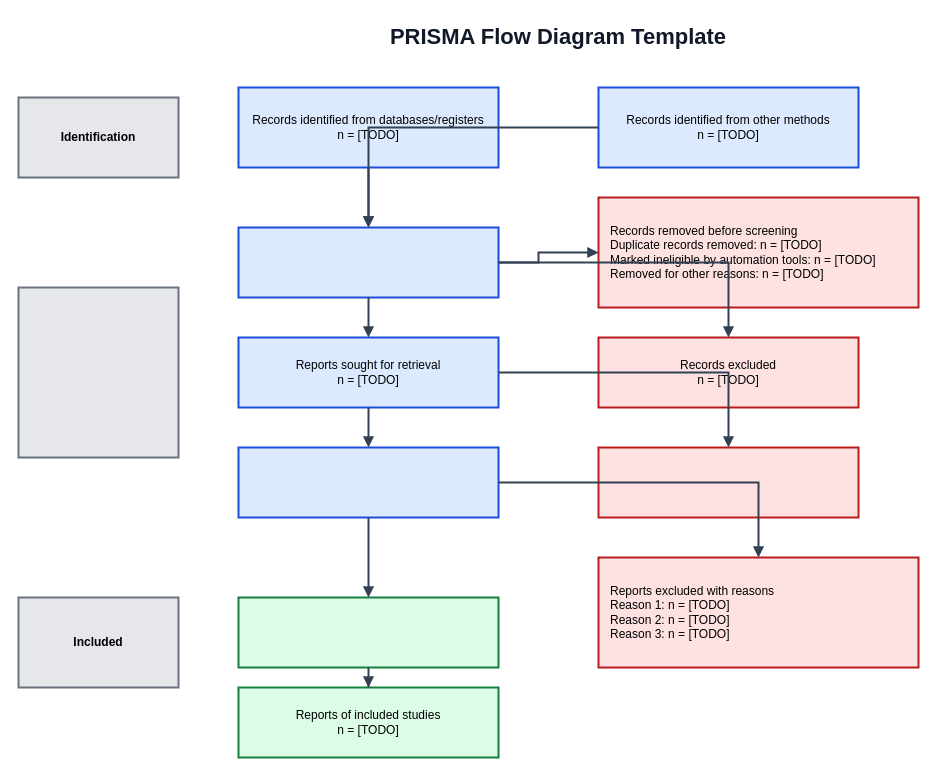
This 936x775 diagram has some shape labels left out. The box of each missing label's shape, as (x1, y1, x2, y2) in pixels:
Records screened n = [TODO]: (237, 226, 499, 298)
Reports assessed for eligibility n = [TODO]: (237, 446, 499, 518)
Reports not retrieved n = [TODO]: (597, 446, 859, 518)
Screening: (17, 286, 179, 458)
Studies included in review n = [TODO]: (237, 596, 499, 668)
